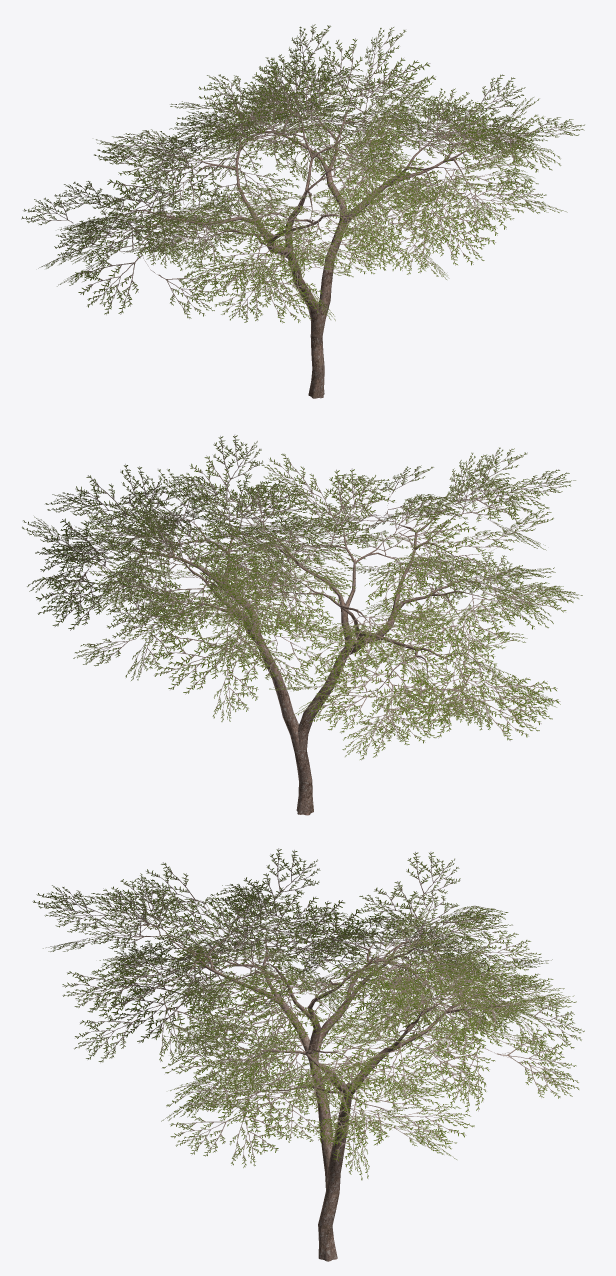
File: acacia.glb
The picture shows the model from 3 angles, top to bottom: view 1: azimuth 30°, elevation 25°; view 2: azimuth 150°, elevation 25°; view 3: azimuth 270°, elevation 25°; orthographic projection. The views are drawn at different scales.
Visible parts, largest first — view 1: acacia branch_1, bark05_0; view 2: acacia branch_1, bark05_0; view 3: acacia branch_1, bark05_0.
Boxes of the visible parts, box(x1,y1,x2,y2) form: acacia branch_1: box(21, 24, 584, 323); bark05_0: box(93, 72, 526, 398); acacia branch_1: box(22, 435, 582, 760); bark05_0: box(84, 483, 506, 815); acacia branch_1: box(32, 848, 584, 1180); bark05_0: box(104, 904, 519, 1261).
Size of the model in its own units: 12.8 by 6.91 by 10.39.
2 materials, 2 textured.
